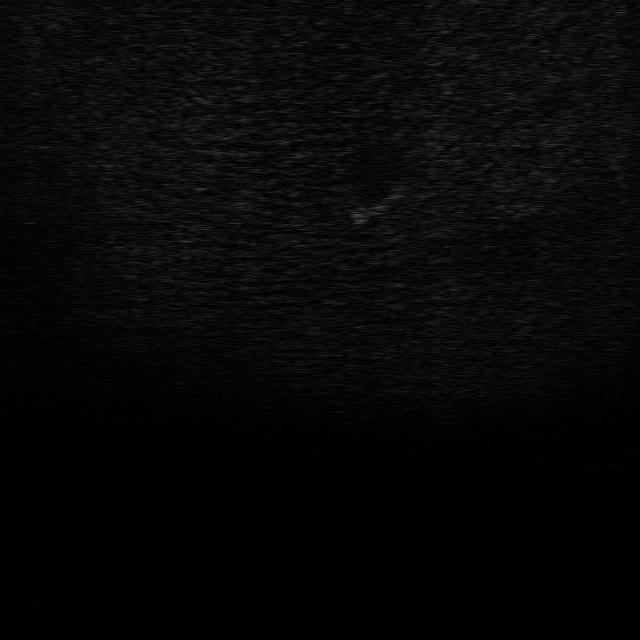plane: (336, 183, 410, 226)
